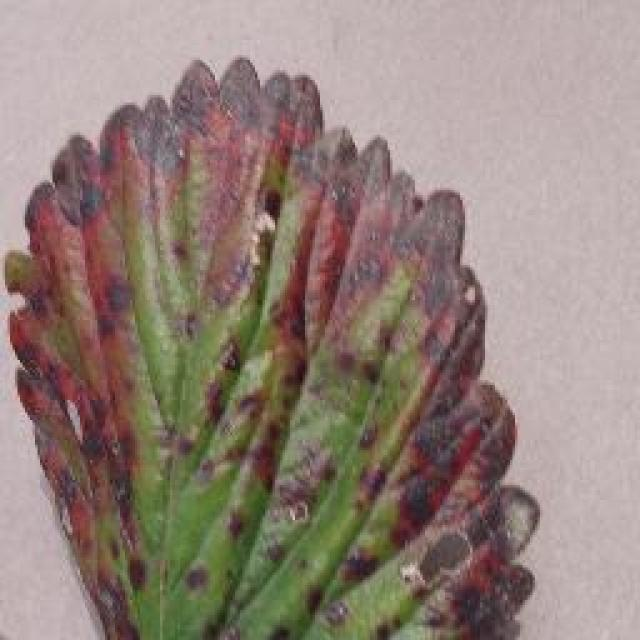Strawberry leaf scorch: (43, 85, 495, 640)
